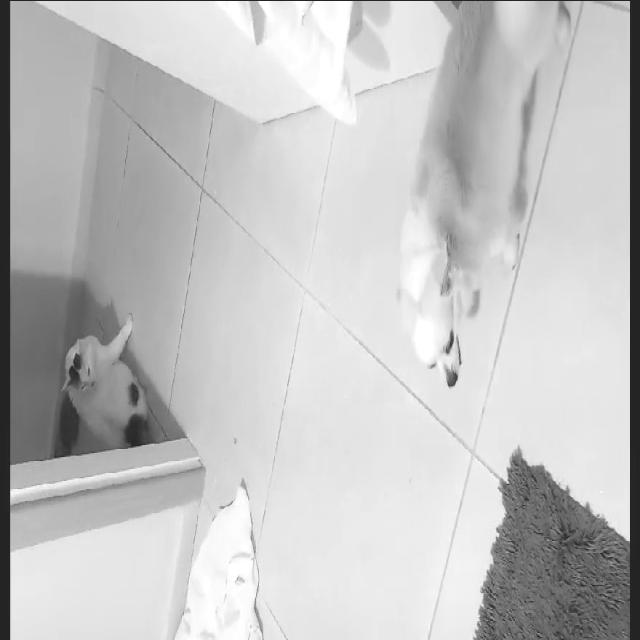Simba: (45, 298, 161, 452)
Theo: (396, 1, 546, 401)
